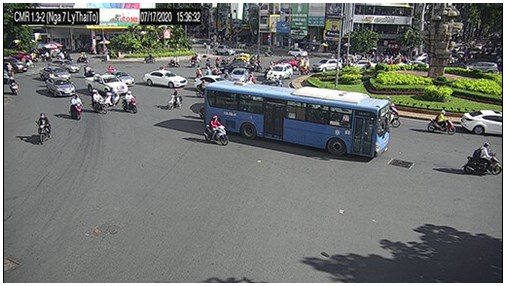xe_buyt: (207, 80, 390, 158)
xe_hoi: (462, 109, 503, 137), (143, 71, 188, 88), (194, 76, 235, 92), (45, 77, 75, 96), (266, 62, 293, 81), (39, 66, 71, 82), (47, 58, 81, 73), (311, 58, 341, 73), (218, 61, 254, 73), (467, 62, 498, 74), (229, 68, 247, 83), (215, 44, 233, 57), (286, 48, 308, 57), (350, 60, 375, 67)
xe_may: (462, 143, 502, 177), (429, 109, 456, 137), (204, 116, 229, 145), (89, 89, 107, 115), (37, 112, 50, 145), (121, 90, 138, 113), (167, 87, 183, 108), (70, 93, 82, 120), (8, 76, 20, 96), (83, 63, 95, 78), (143, 52, 155, 64), (191, 51, 201, 65), (193, 64, 203, 78), (7, 62, 15, 79), (168, 55, 180, 66), (77, 52, 87, 64)
